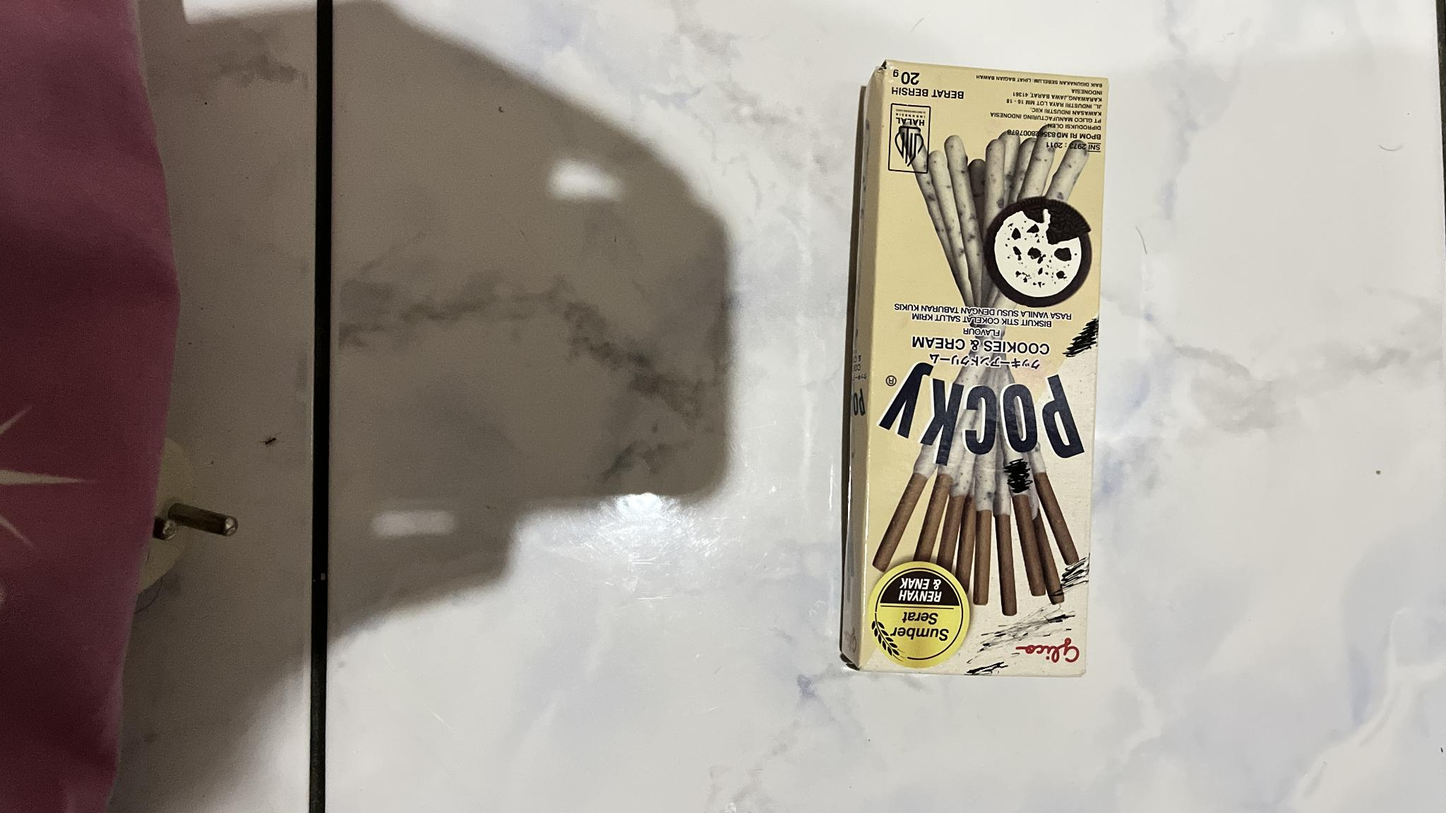Kertas: (861, 59, 1105, 674)
